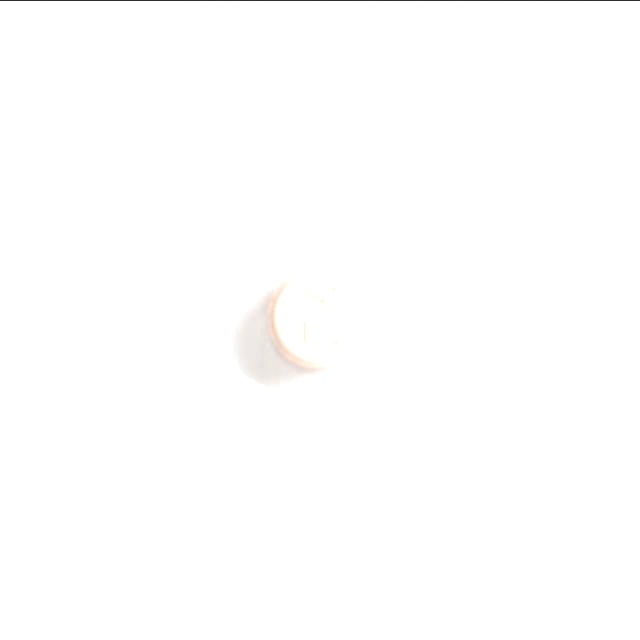pill: (265, 263, 375, 372)
